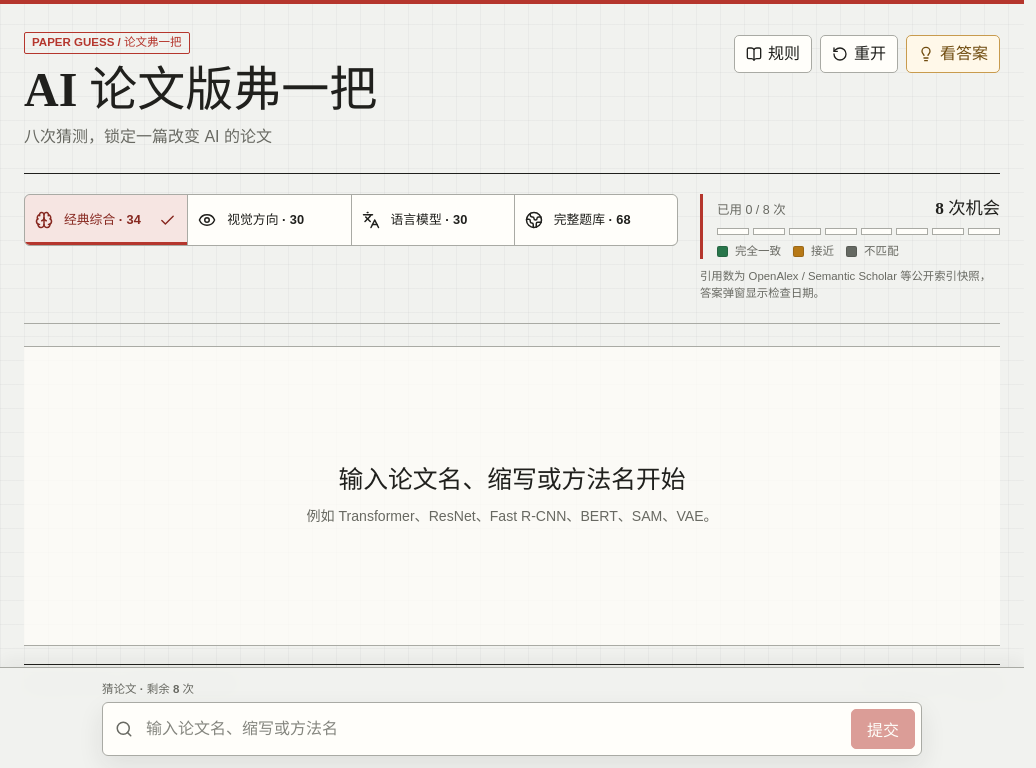
Scenario: GamePage › starts a classic game and records a wrong guess
Expected: the heading "AI 论文版弗一把" is shown, left=24, top=64, right=377, bottom=115
Expected: the text "PAPER GUESS / 论文弗一把" is shown, left=24, top=32, right=190, bottom=54
Step 1. Type "ResNet" into the dropdown → (493, 729), box left=144, top=719, right=842, bottom=739
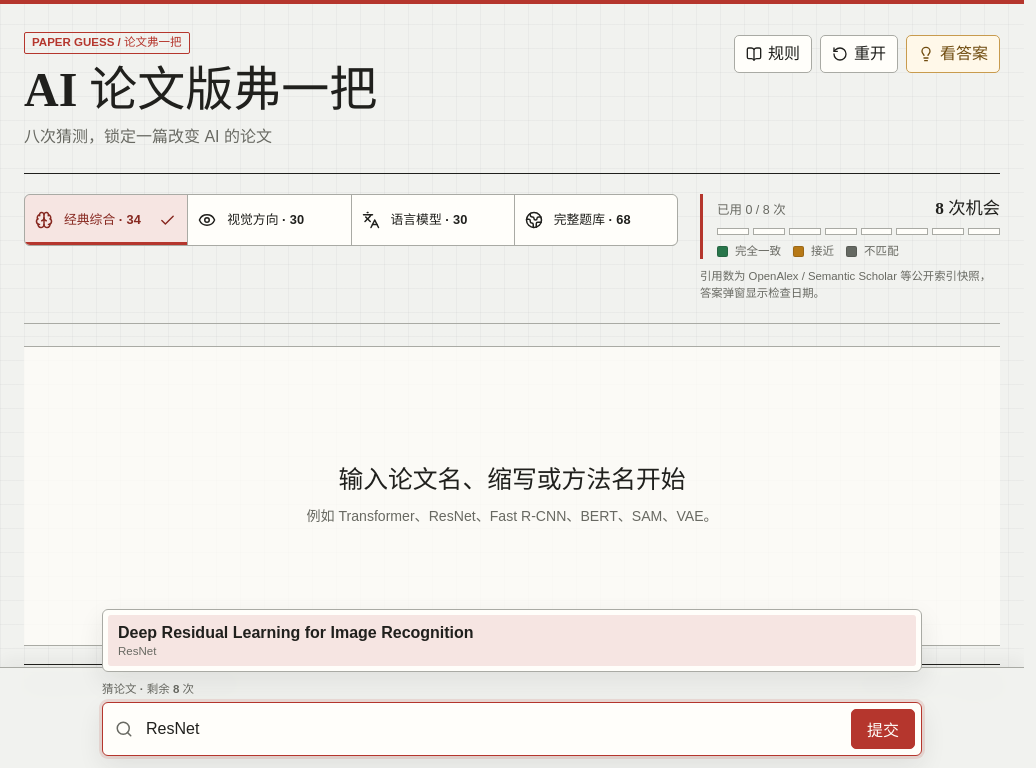
Step 2. Click the option "Deep Residual Learning for Image Recognition ResNet" → click(296, 632), box left=108, top=615, right=916, bottom=666
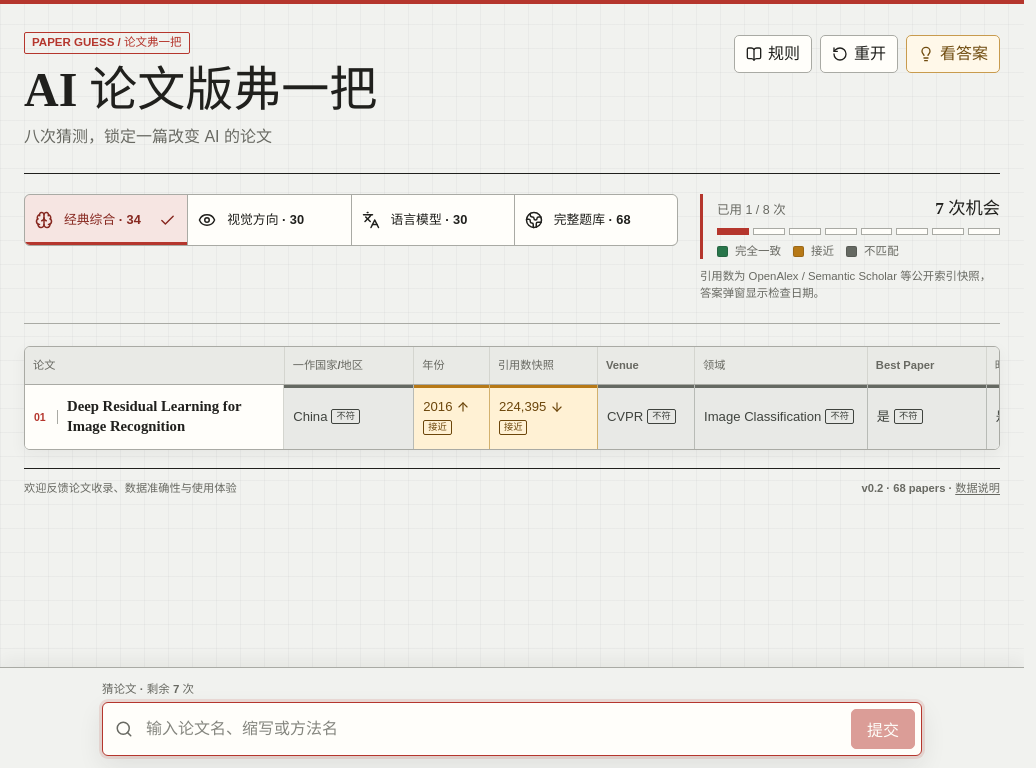
Expected: the dropdown labelled "猜论文 · 剩余 7 次" is shown, left=144, top=719, right=842, bottom=739
Expected: the text "Deep Residual Learning for Image Recognition" is shown, left=67, top=398, right=241, bottom=434
Expected: the element "已用 1 / 8 次" is shown, left=700, top=194, right=1000, bottom=259
